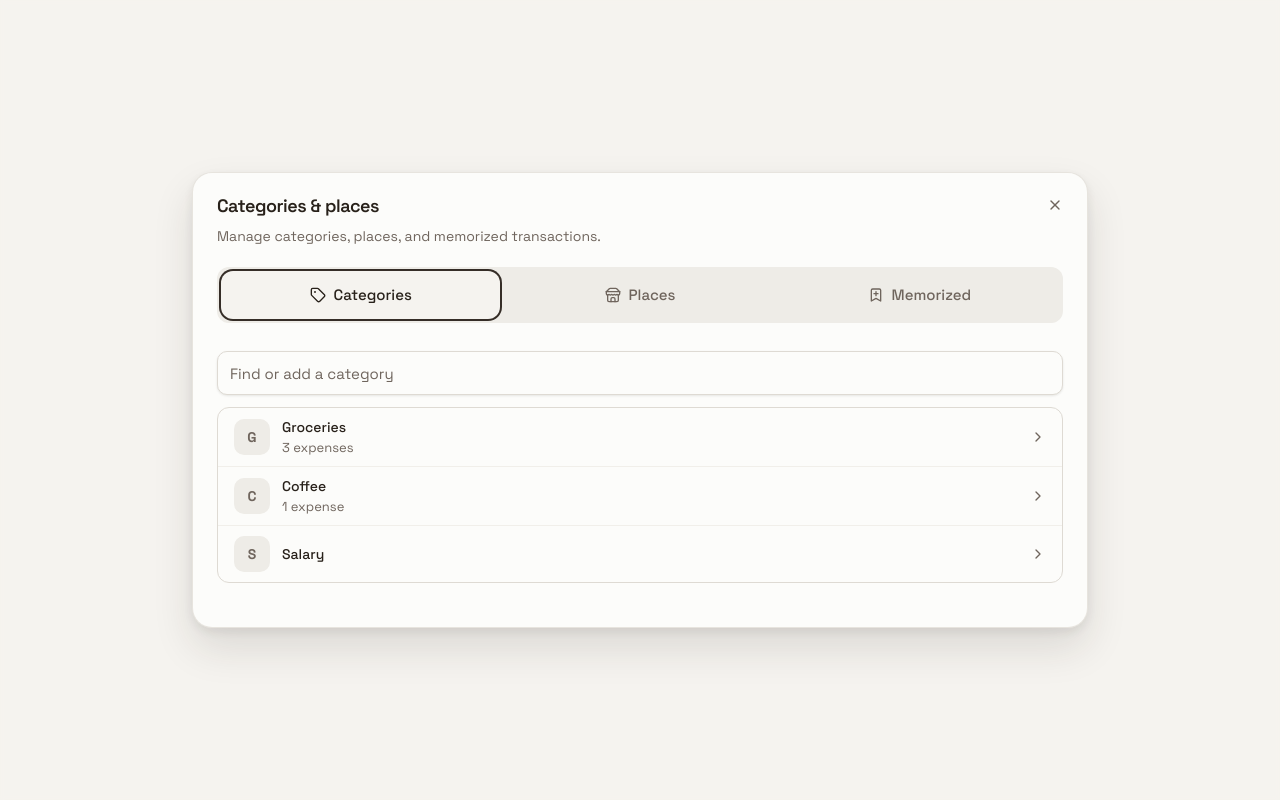
Test case: categories and places manager (MOB-R91 D) › Back returns to the list with the search kept
Expected: the text "Groceries" is shown, [282, 416, 346, 438]
Type "gro" into the field labelled "Find or add a category". click: (640, 373)
box: [217, 351, 1063, 395]
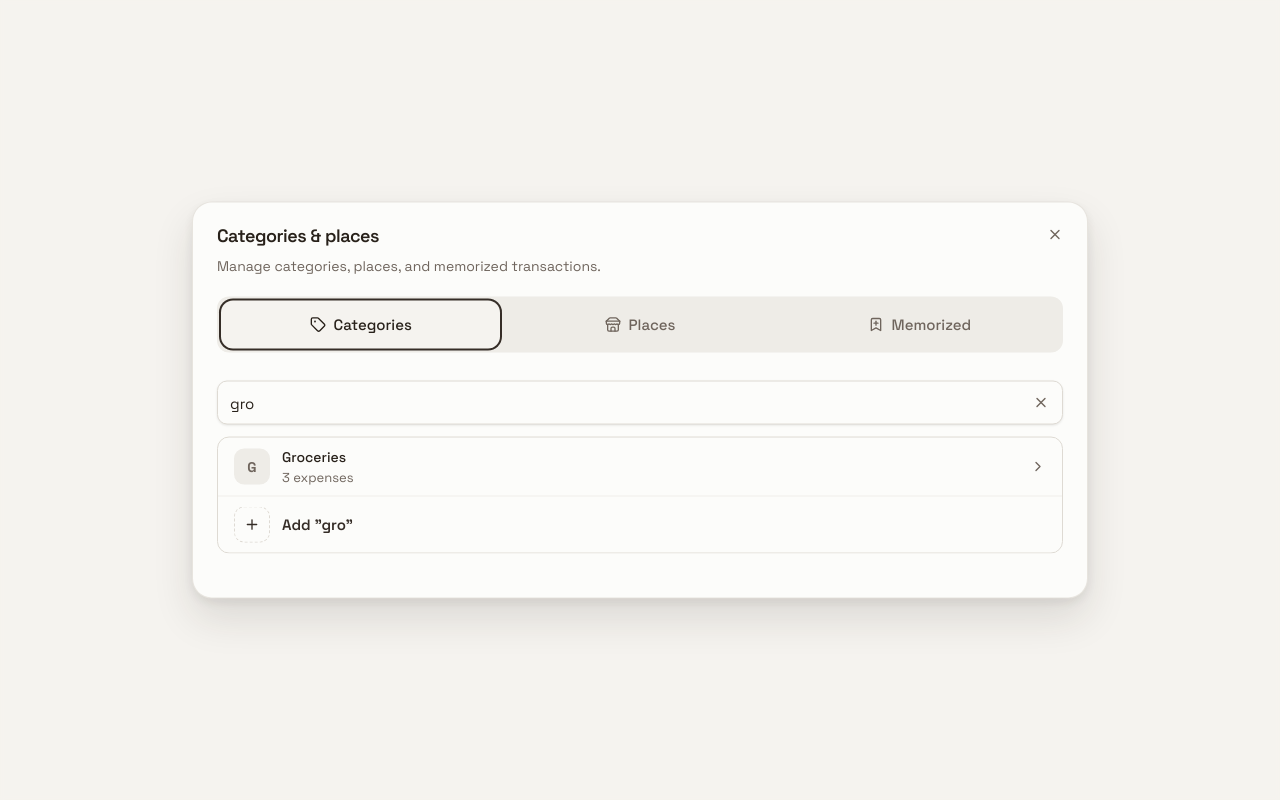
Click the button "G Groceries 3 expenses". click: (252, 466)
box: [218, 438, 1062, 496]
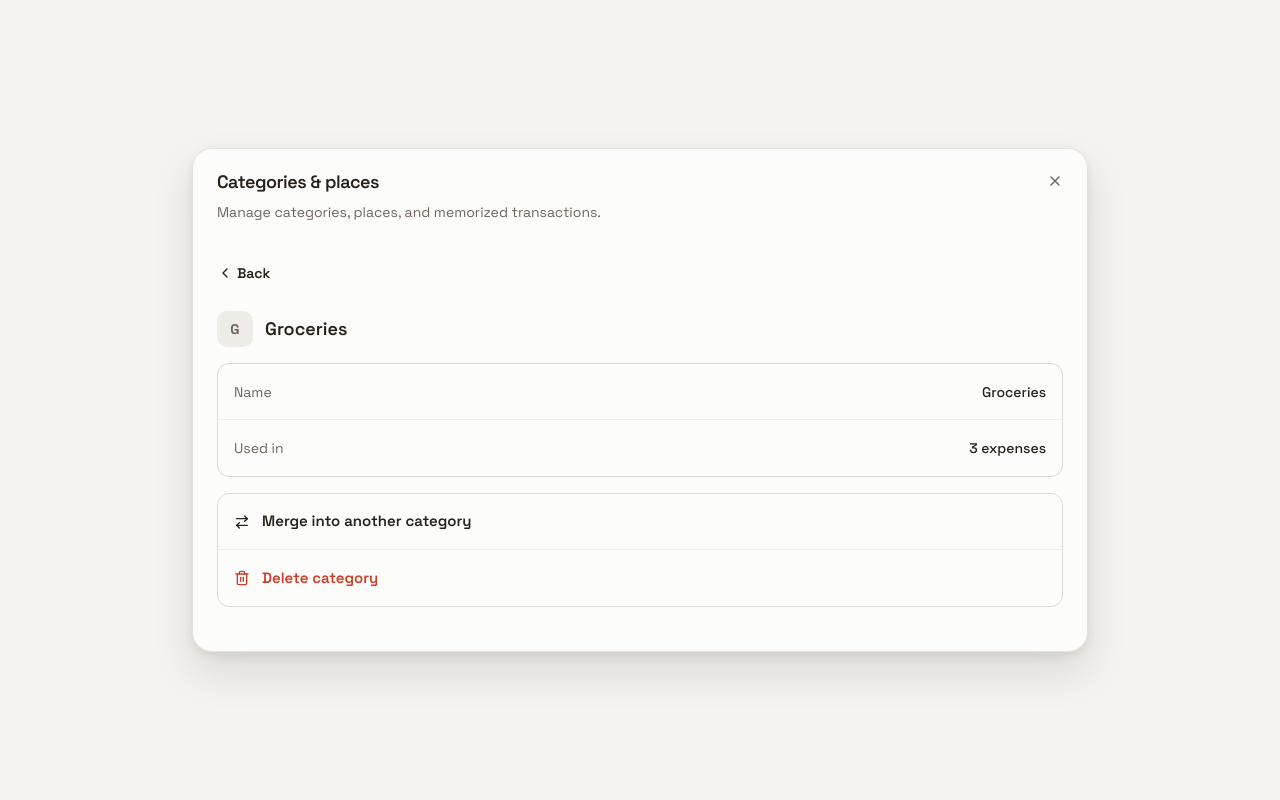
Click the button "Back". click: (244, 273)
box: [209, 251, 278, 295]
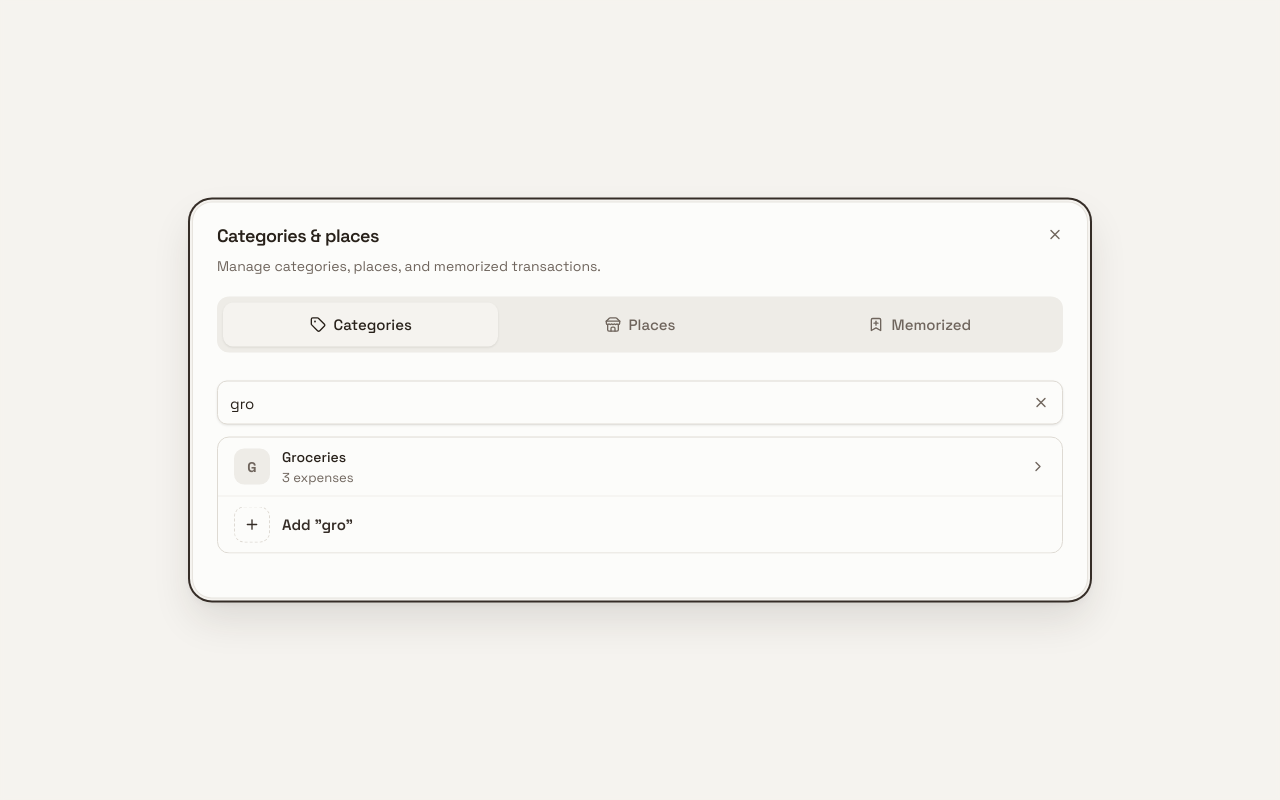
Expected: the button "Coffee" is not shown
Expected: the field named "Find or add a category" holds "gro", [217, 380, 1063, 424]
Expected: the button "Places" is shown, [502, 302, 778, 346]
